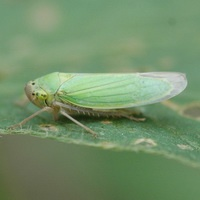insect: (12, 72, 186, 136)
